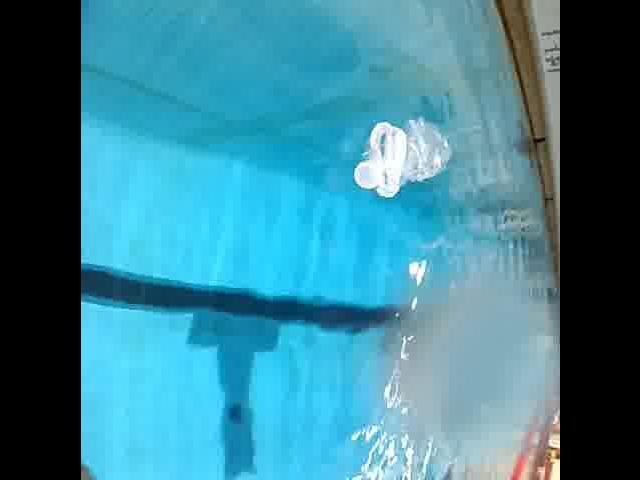Bottle: (351, 110, 457, 202)
